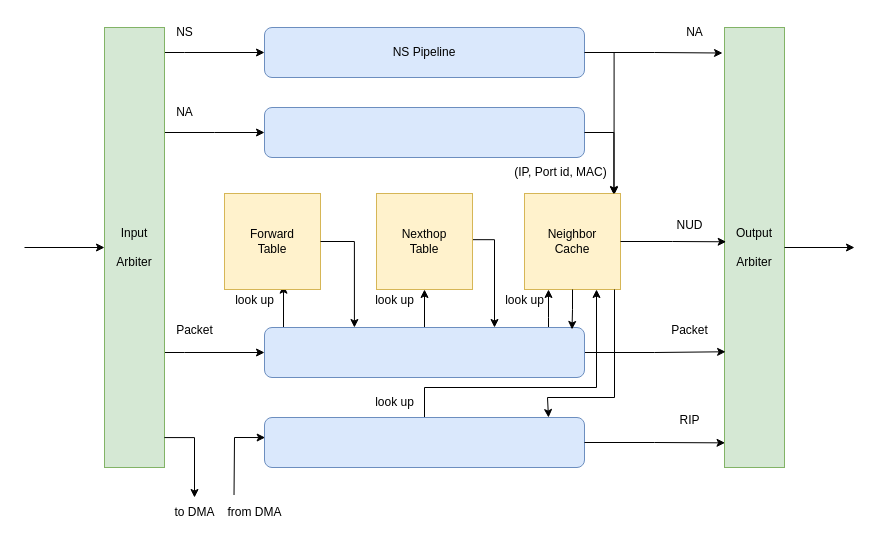
This 880x544 diagram has some shape labels left out. Each missing label, with the centre of its shape:
"Forward Logic" belongs at (424,352).
"NA Pipeline" belongs at (424,132).
"RIP Pipeline" belongs at (424,442).
